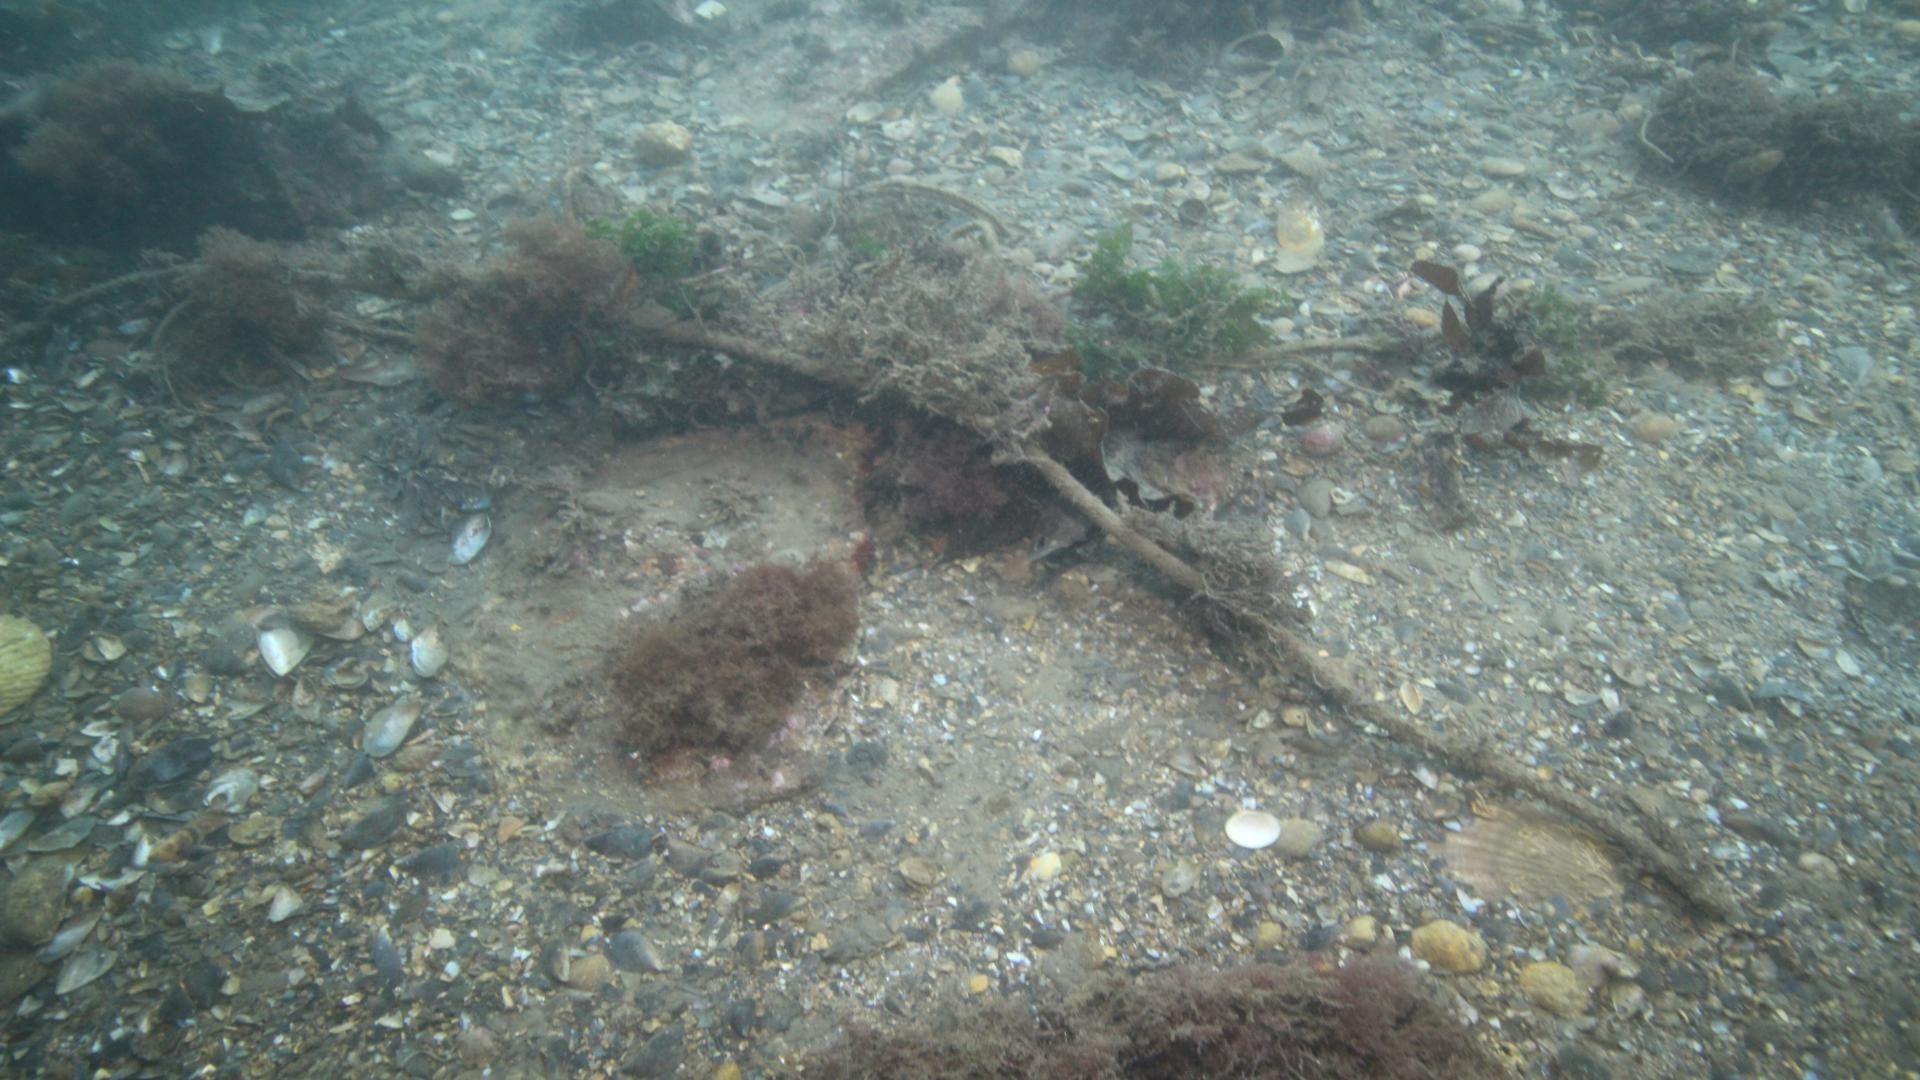rope: (659, 322, 1662, 861), (49, 257, 427, 310)
